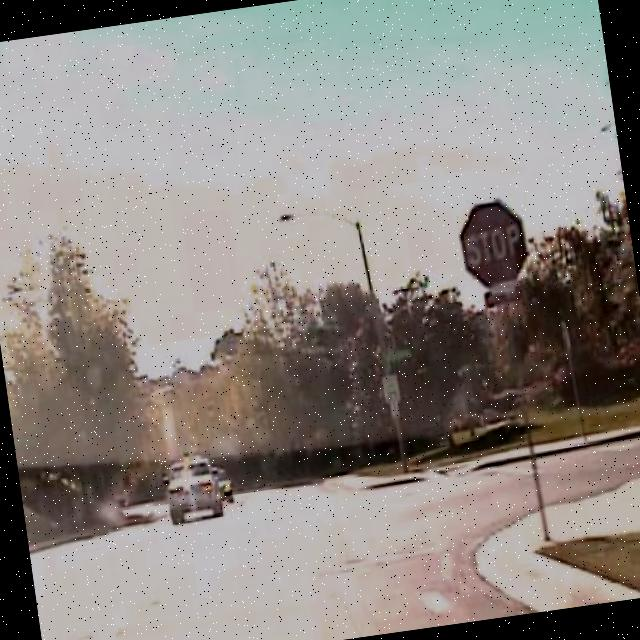Stop: (454, 194, 536, 292)
